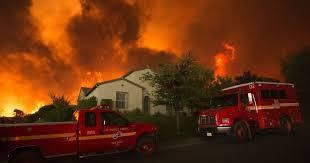fire: (208, 40, 240, 80)
